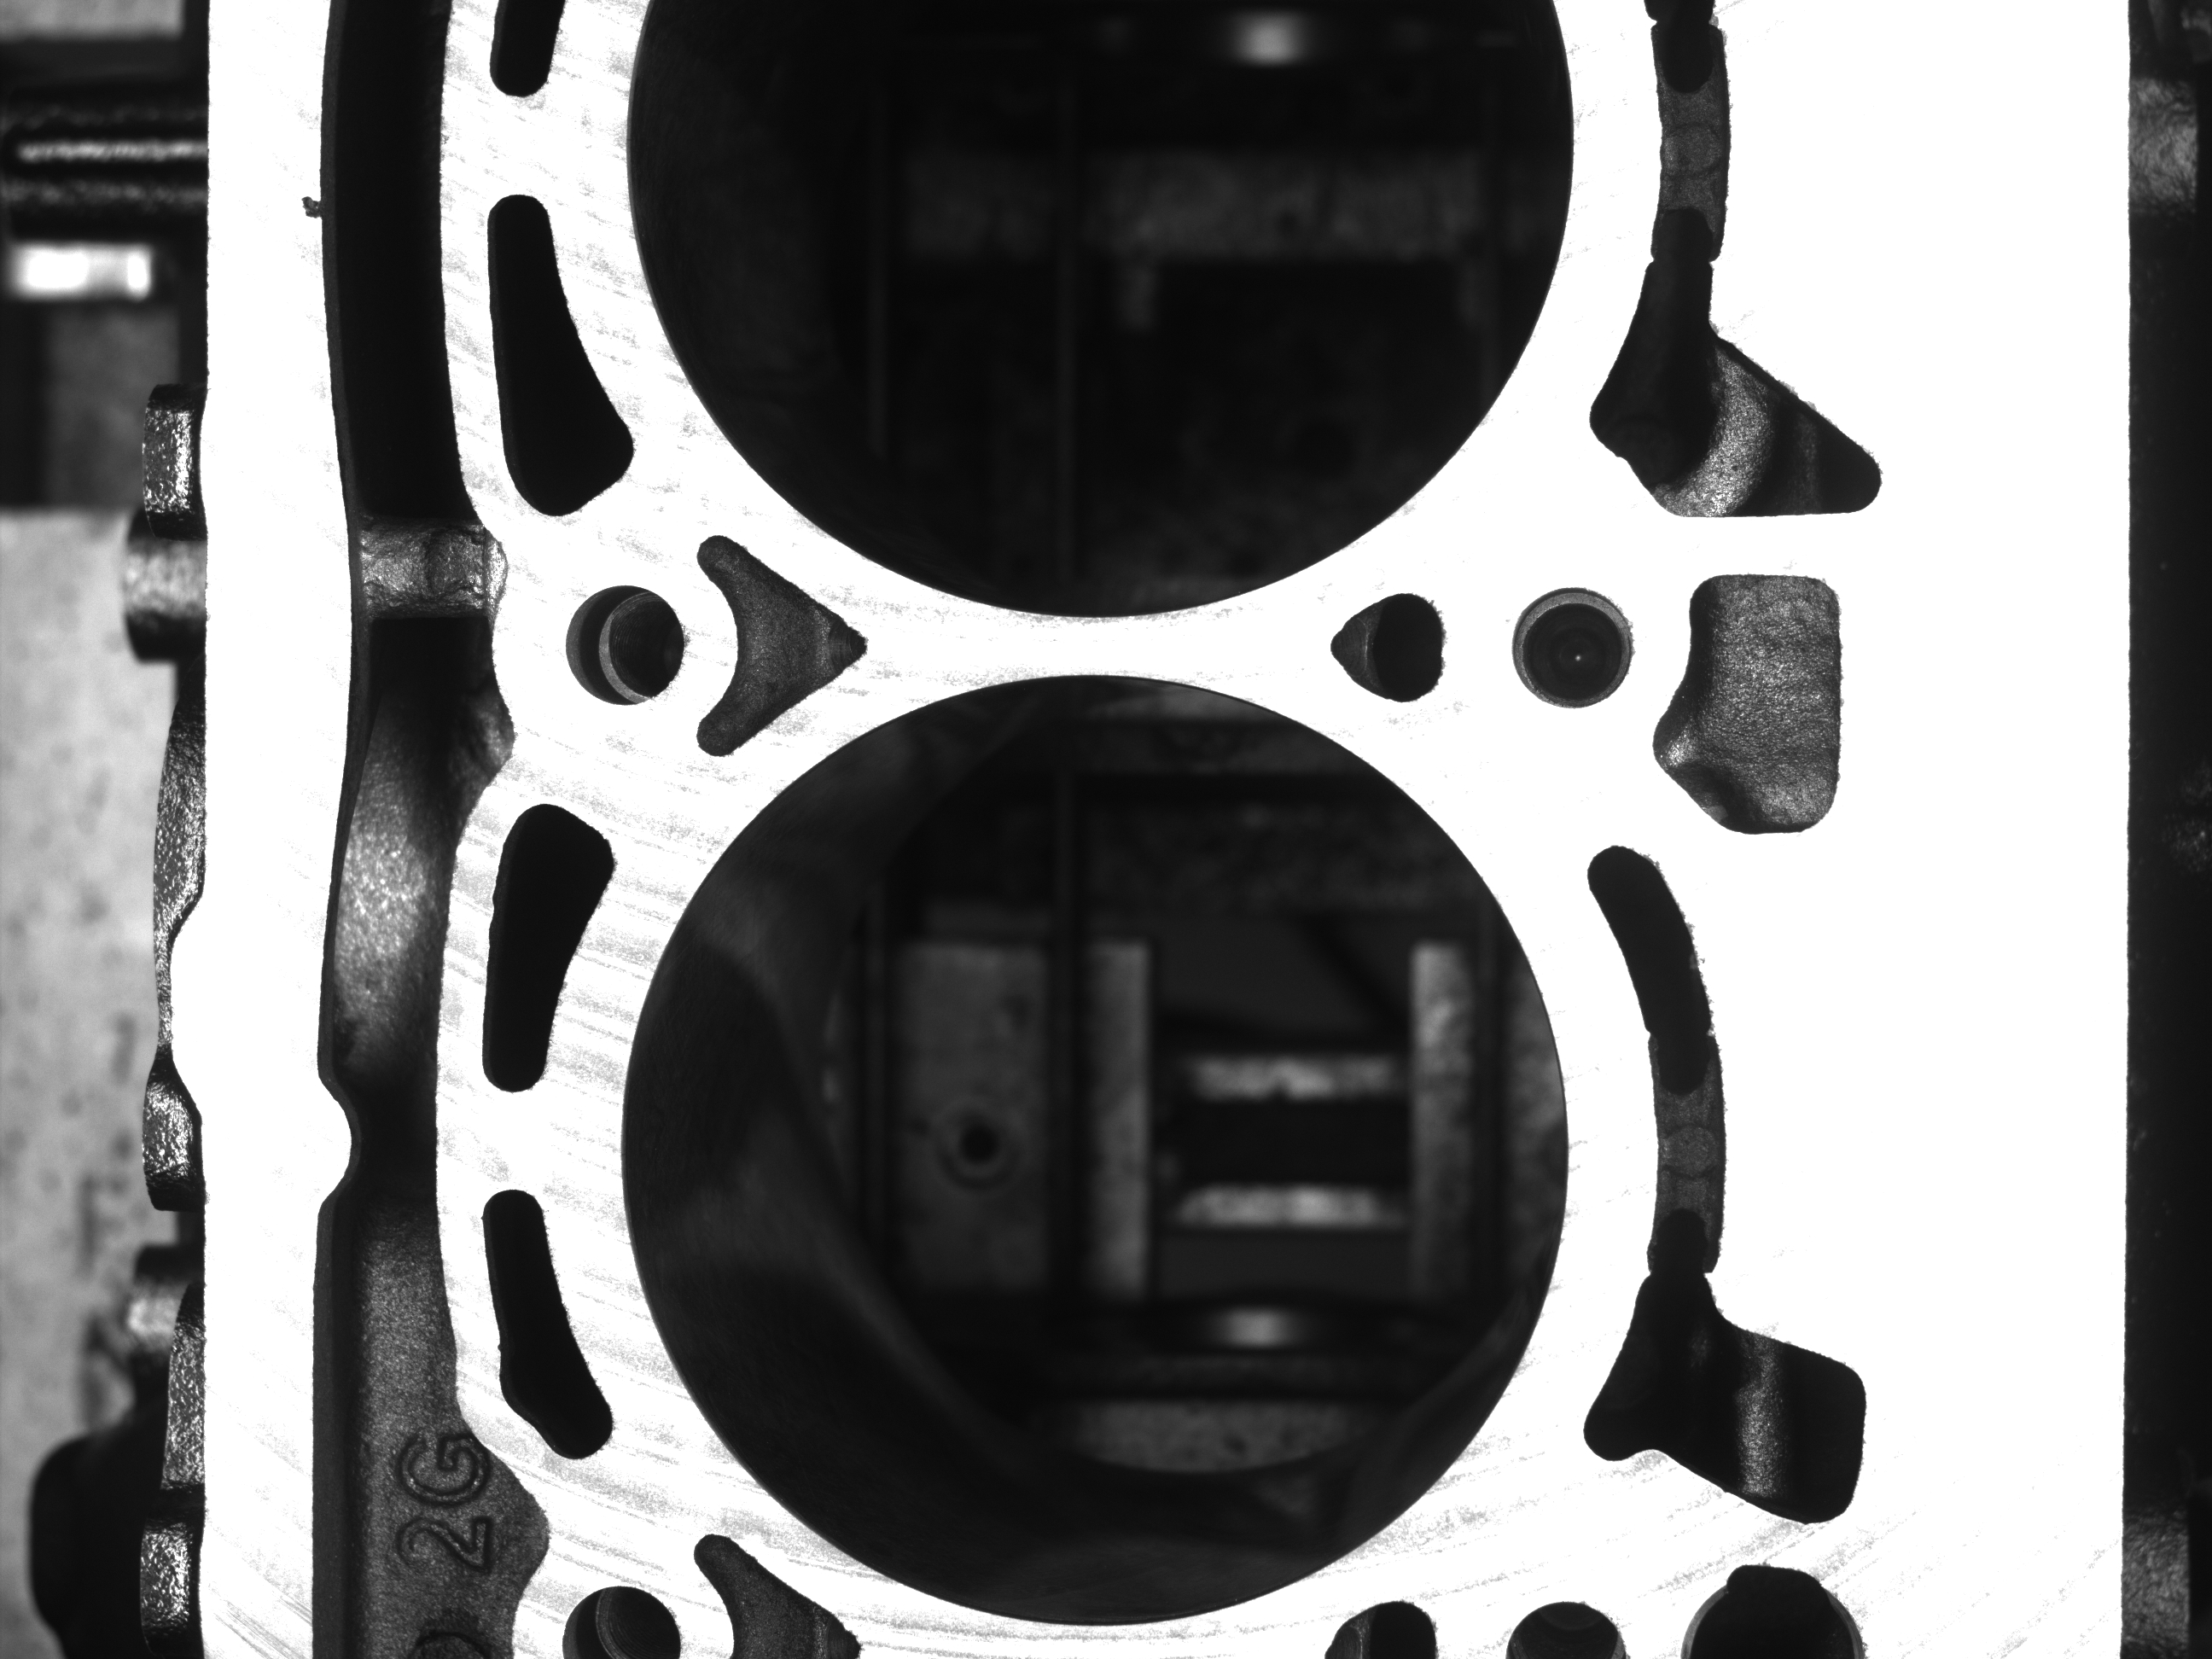sandhole: (287, 186, 322, 232)
